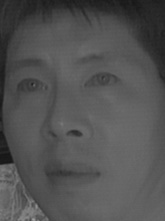eye: (12, 76, 54, 97), (81, 70, 124, 90)
mouth: (39, 154, 104, 190)
